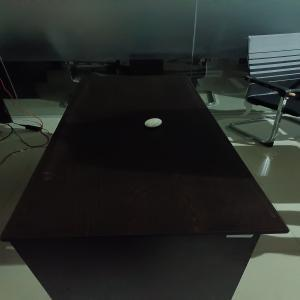Egg: (144, 116, 163, 128)
